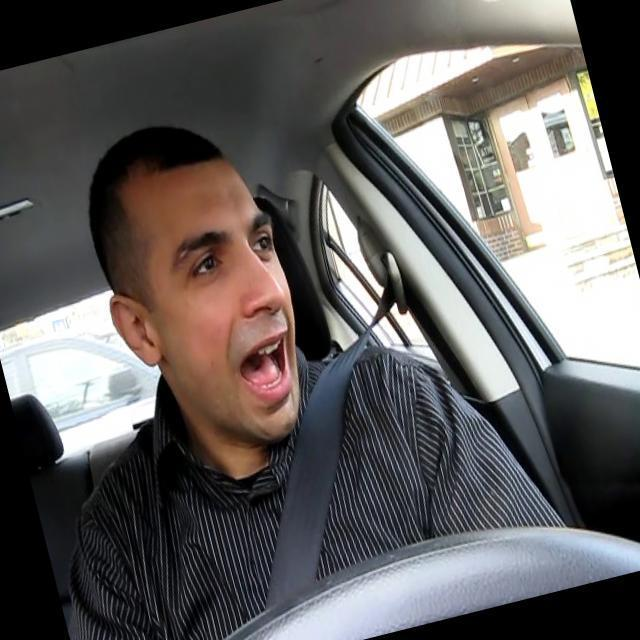open-mouth: (239, 330, 293, 399)
